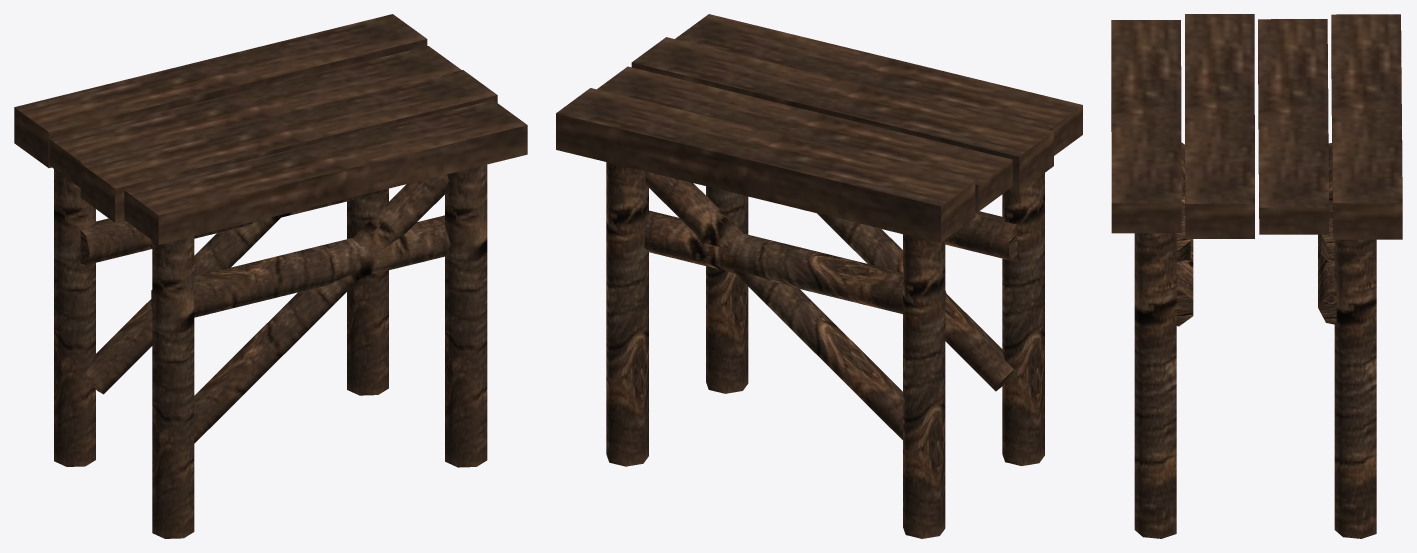
The model's file is desk.glb.
3 views of the same model, side by side, from view 1: azimuth 30°, elevation 25°; view 2: azimuth 150°, elevation 25°; view 3: azimuth 270°, elevation 25° (orthographic).
Parts seen in each view (by area): view 1: part_0; view 2: part_0; view 3: part_0.
Part boxes in pixels (bbox=[...]): part_0: bbox=[14, 14, 527, 538]; part_0: bbox=[556, 14, 1082, 538]; part_0: bbox=[1111, 14, 1402, 538].
Size of the model in its own units: 0.8431 by 0.7214 by 0.543.
Materials: 1 (1 with a texture image).
